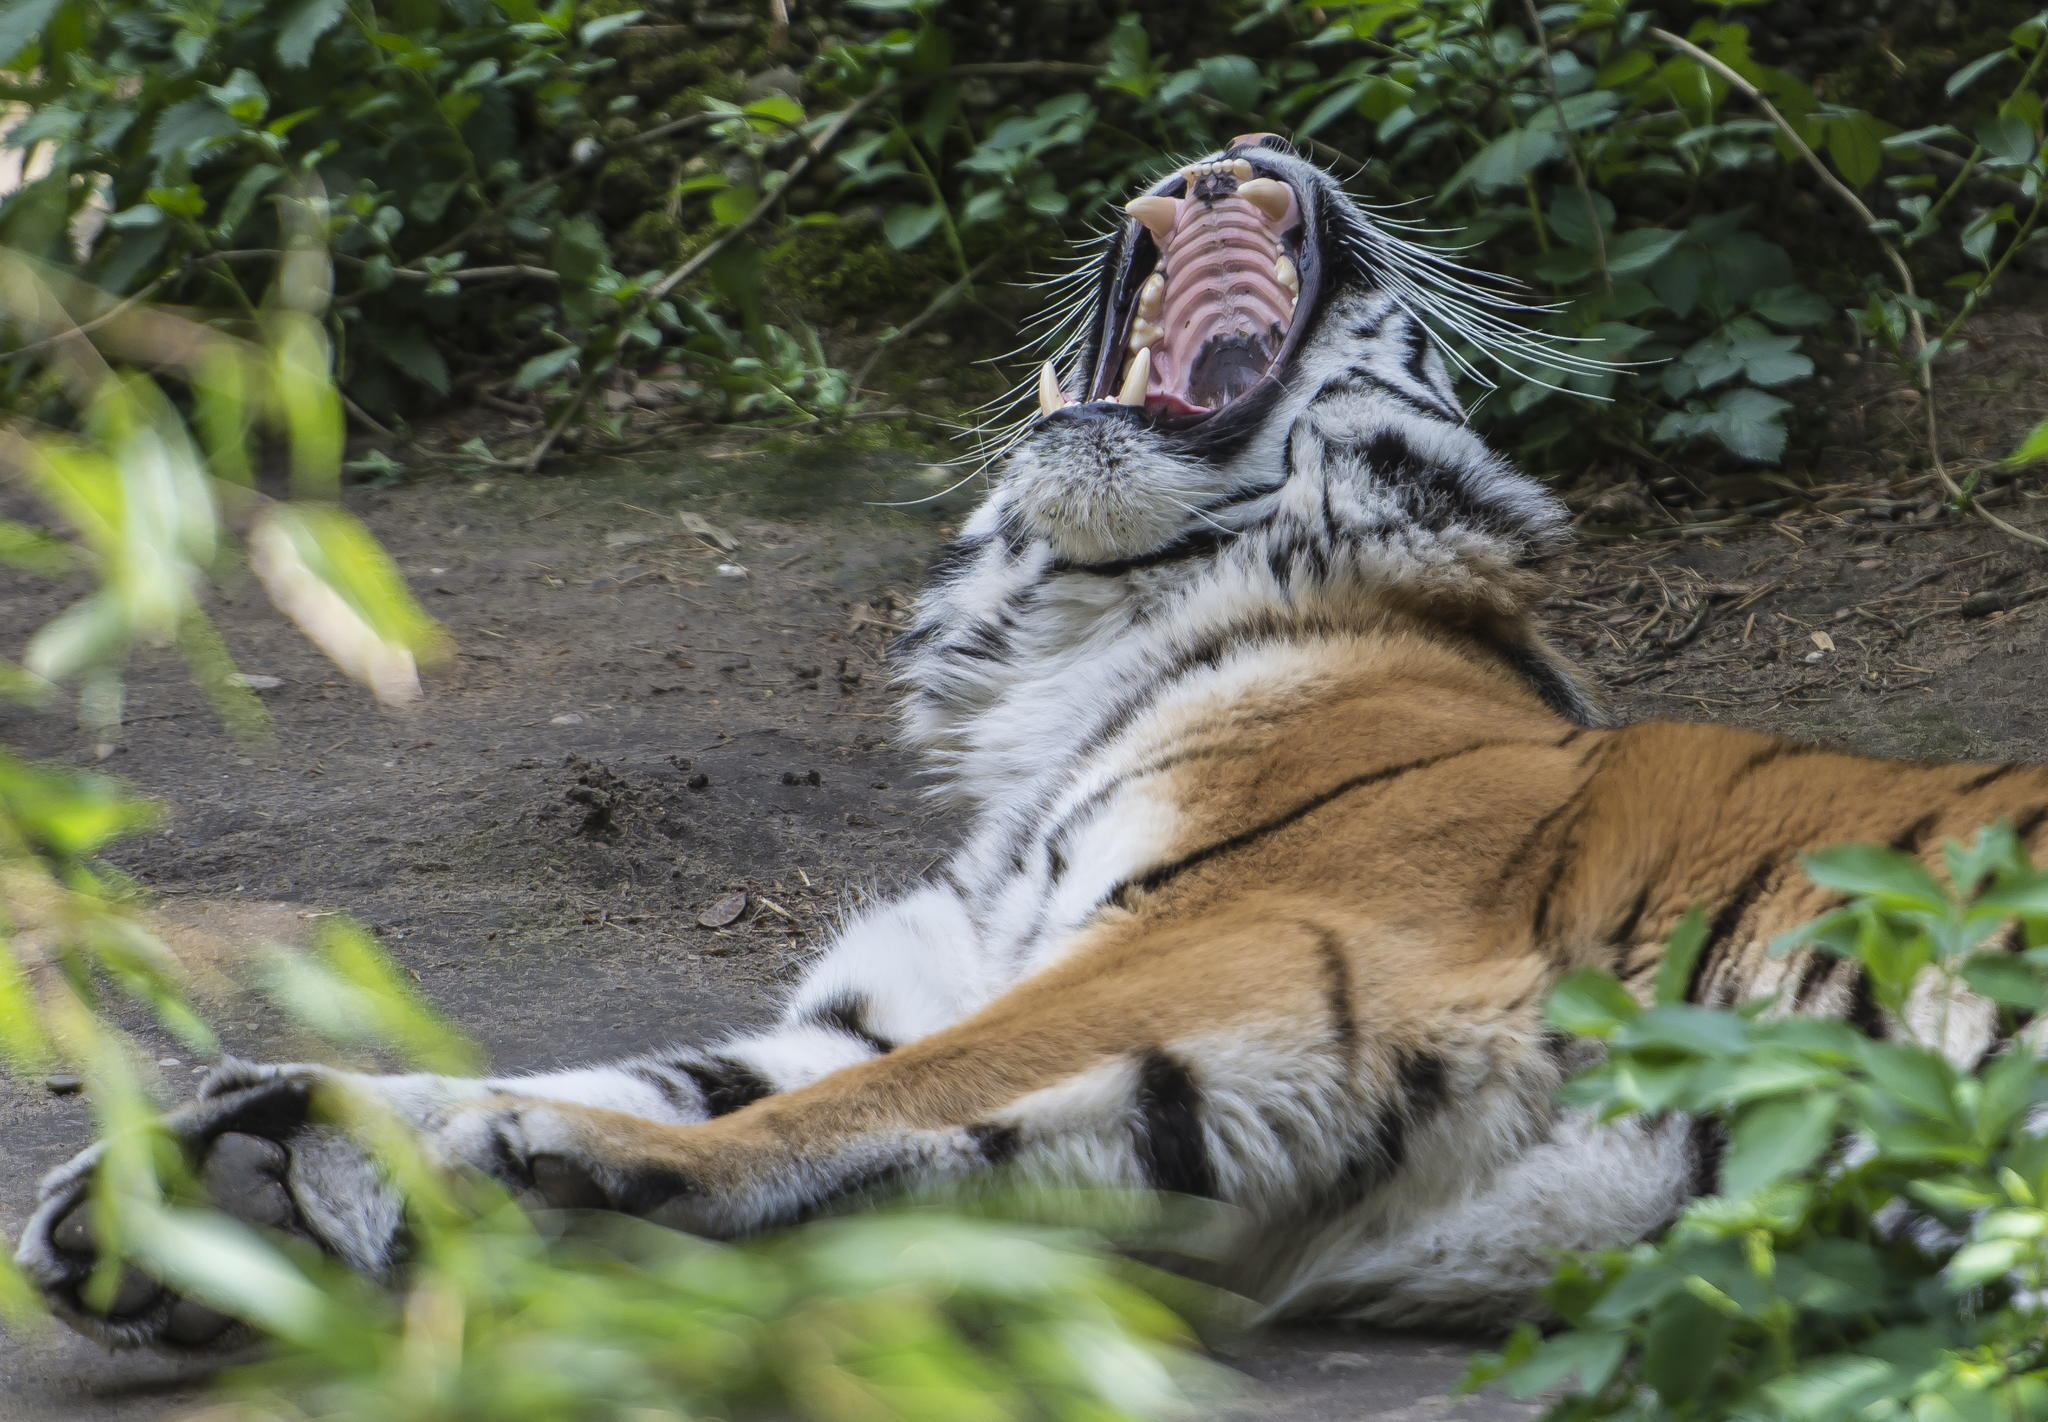tiger: (795, 137, 1986, 1136)
